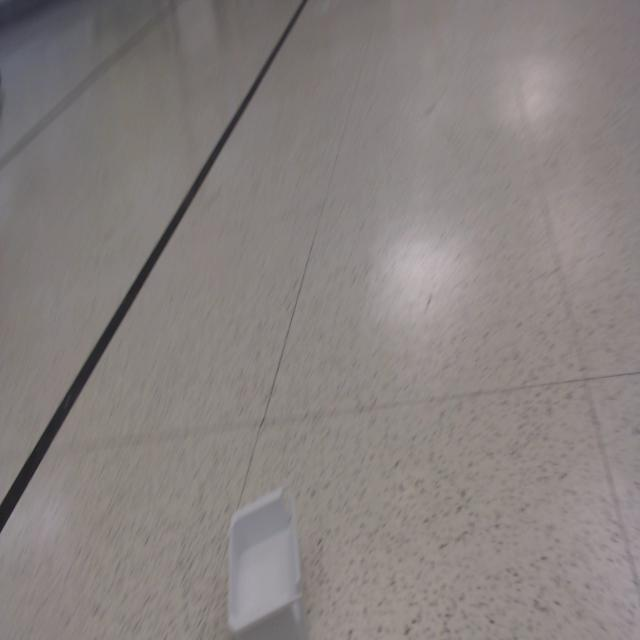wbox: (225, 482, 307, 636)
